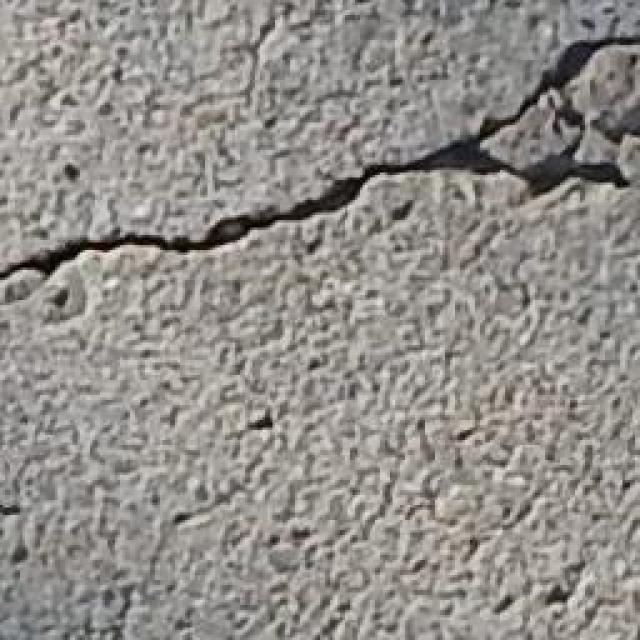concrete-crack: (1, 23, 638, 286)
